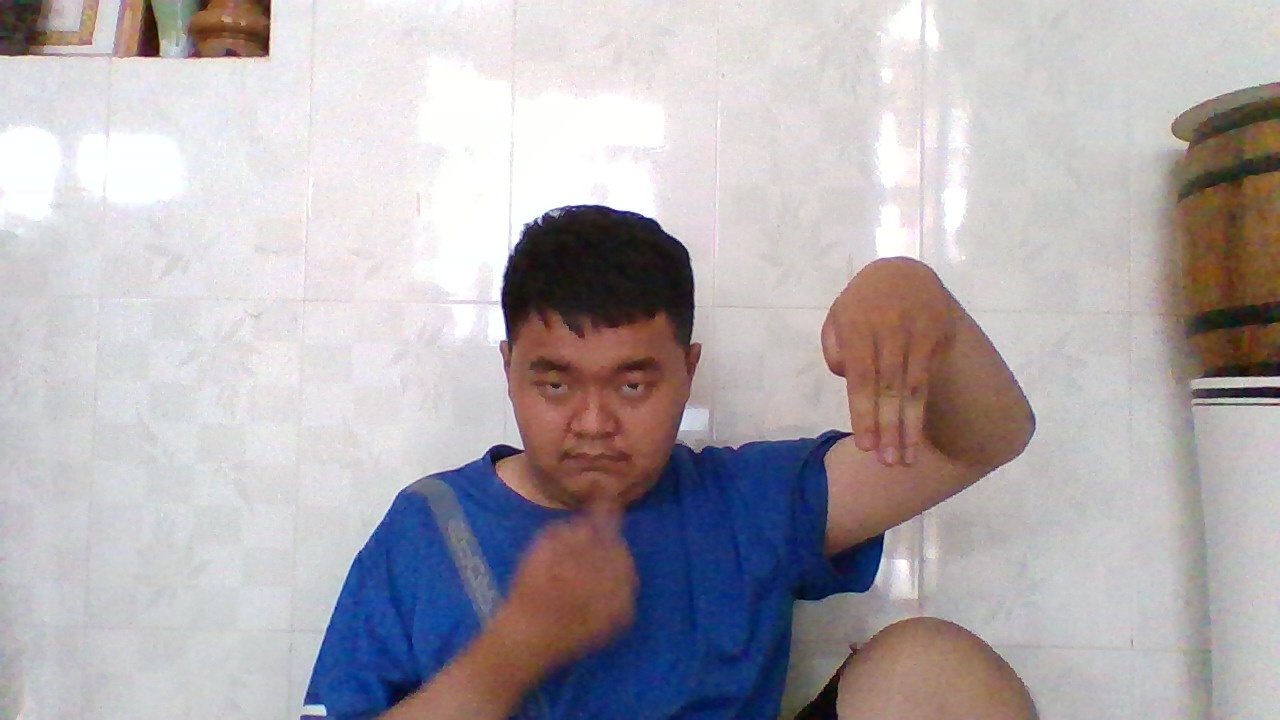M: (813, 251, 960, 475)
